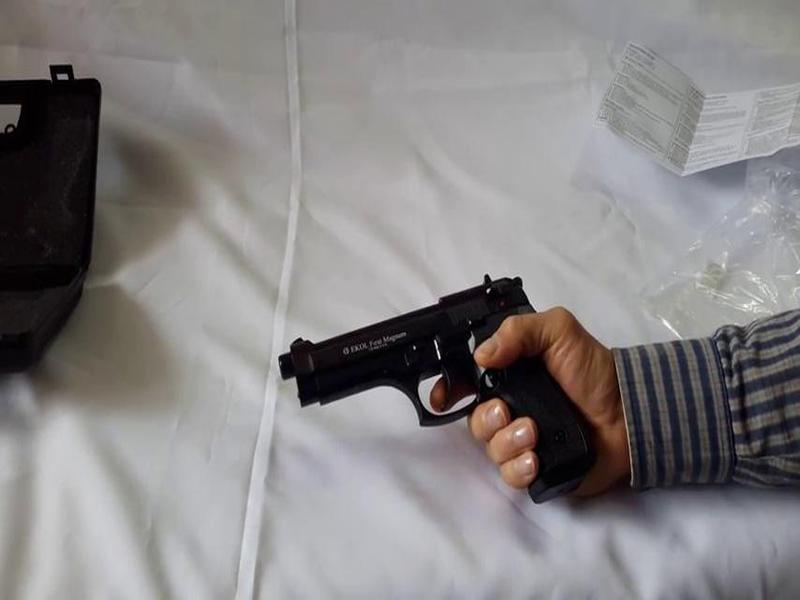Pistola: (263, 264, 653, 507)
